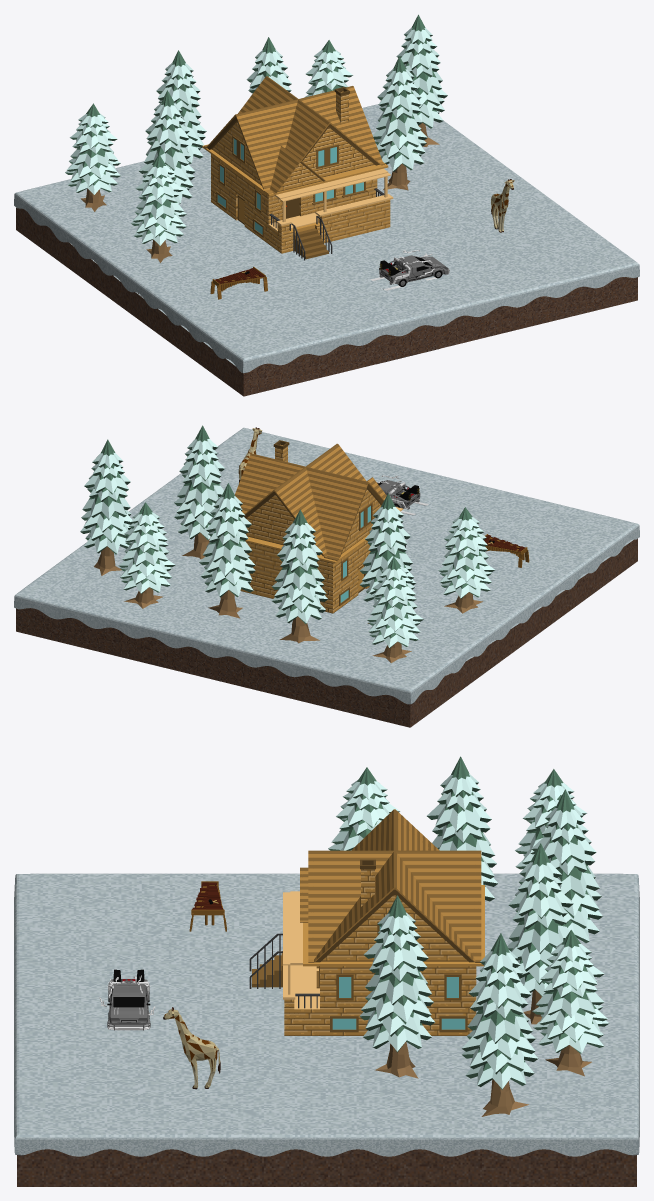
The picture shows the model from 3 angles, top to bottom: view 1: azimuth 30°, elevation 25°; view 2: azimuth 150°, elevation 25°; view 3: azimuth 270°, elevation 25°; orthographic projection. The views are drawn at different scales.
Visible parts, largest first — view 1: Cube.003, Cube.508, VEHICLES_DELOREAN, OBJRANDOM_MARIMBA, ANIMAL_JIRAFA; view 2: Cube.003, Cube.508, VEHICLES_DELOREAN, OBJRANDOM_MARIMBA; view 3: Cube.003, Cube.508, VEHICLES_DELOREAN, ANIMAL_JIRAFA, OBJRANDOM_MARIMBA.
Boxes of the visible parts, x1,y1,x2,y2 form: Cube.003: [14, 14, 639, 396]; Cube.508: [202, 76, 393, 260]; VEHICLES_DELOREAN: [366, 249, 449, 290]; OBJRANDOM_MARIMBA: [210, 266, 267, 299]; ANIMAL_JIRAFA: [491, 179, 514, 232]; Cube.003: [14, 425, 639, 727]; Cube.508: [235, 440, 405, 613]; VEHICLES_DELOREAN: [376, 475, 428, 515]; OBJRANDOM_MARIMBA: [484, 534, 529, 567]; Cube.003: [14, 756, 639, 1186]; Cube.508: [249, 809, 484, 1035]; VEHICLES_DELOREAN: [99, 969, 155, 1030]; ANIMAL_JIRAFA: [163, 1007, 220, 1089]; OBJRANDOM_MARIMBA: [189, 881, 226, 931].
Size of the model in its own units: 4040 by 1692 by 4040.
43 materials, 4 textured.
